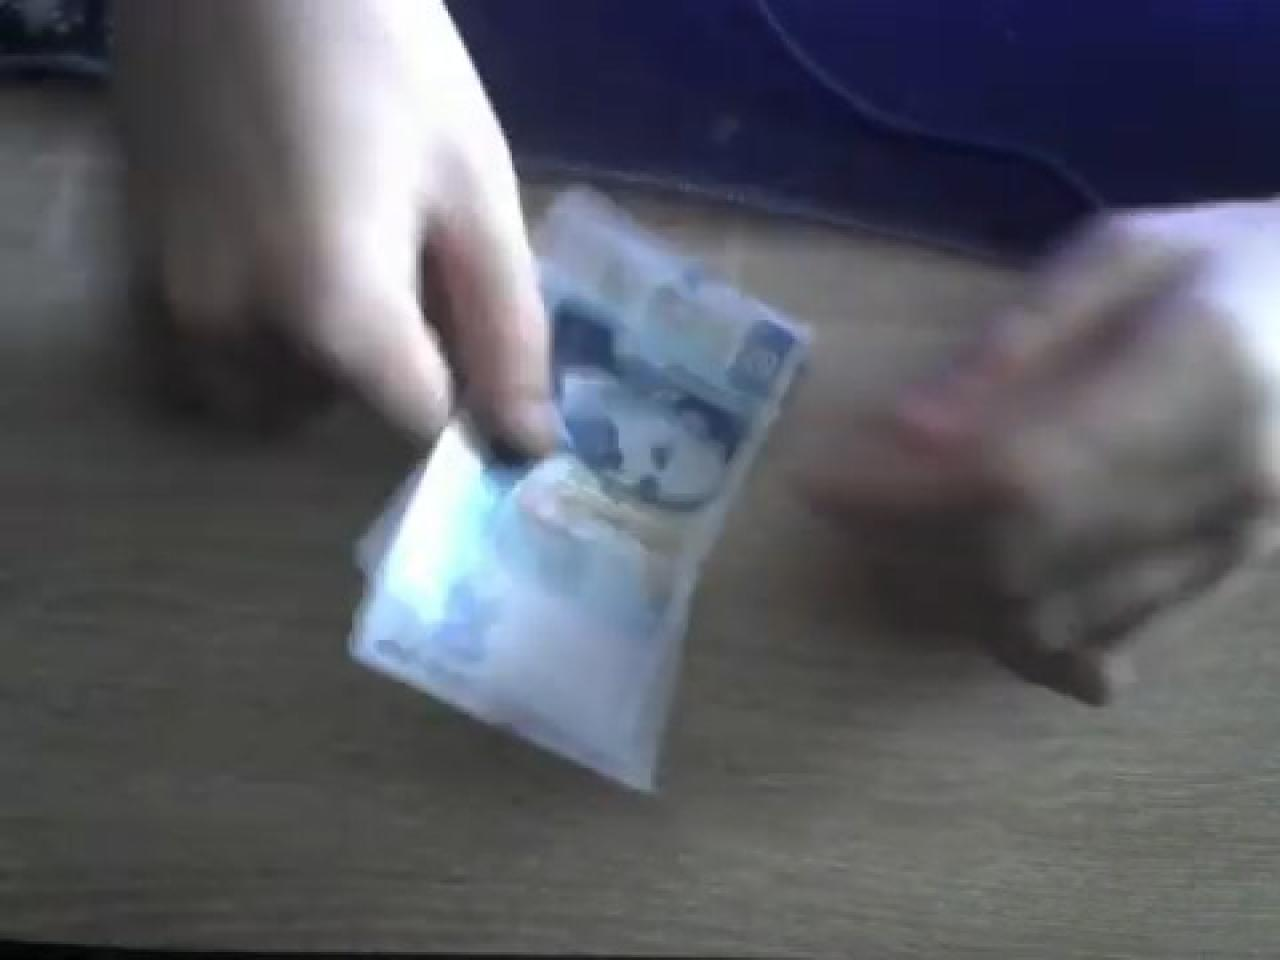20leva: (355, 190, 816, 795)
